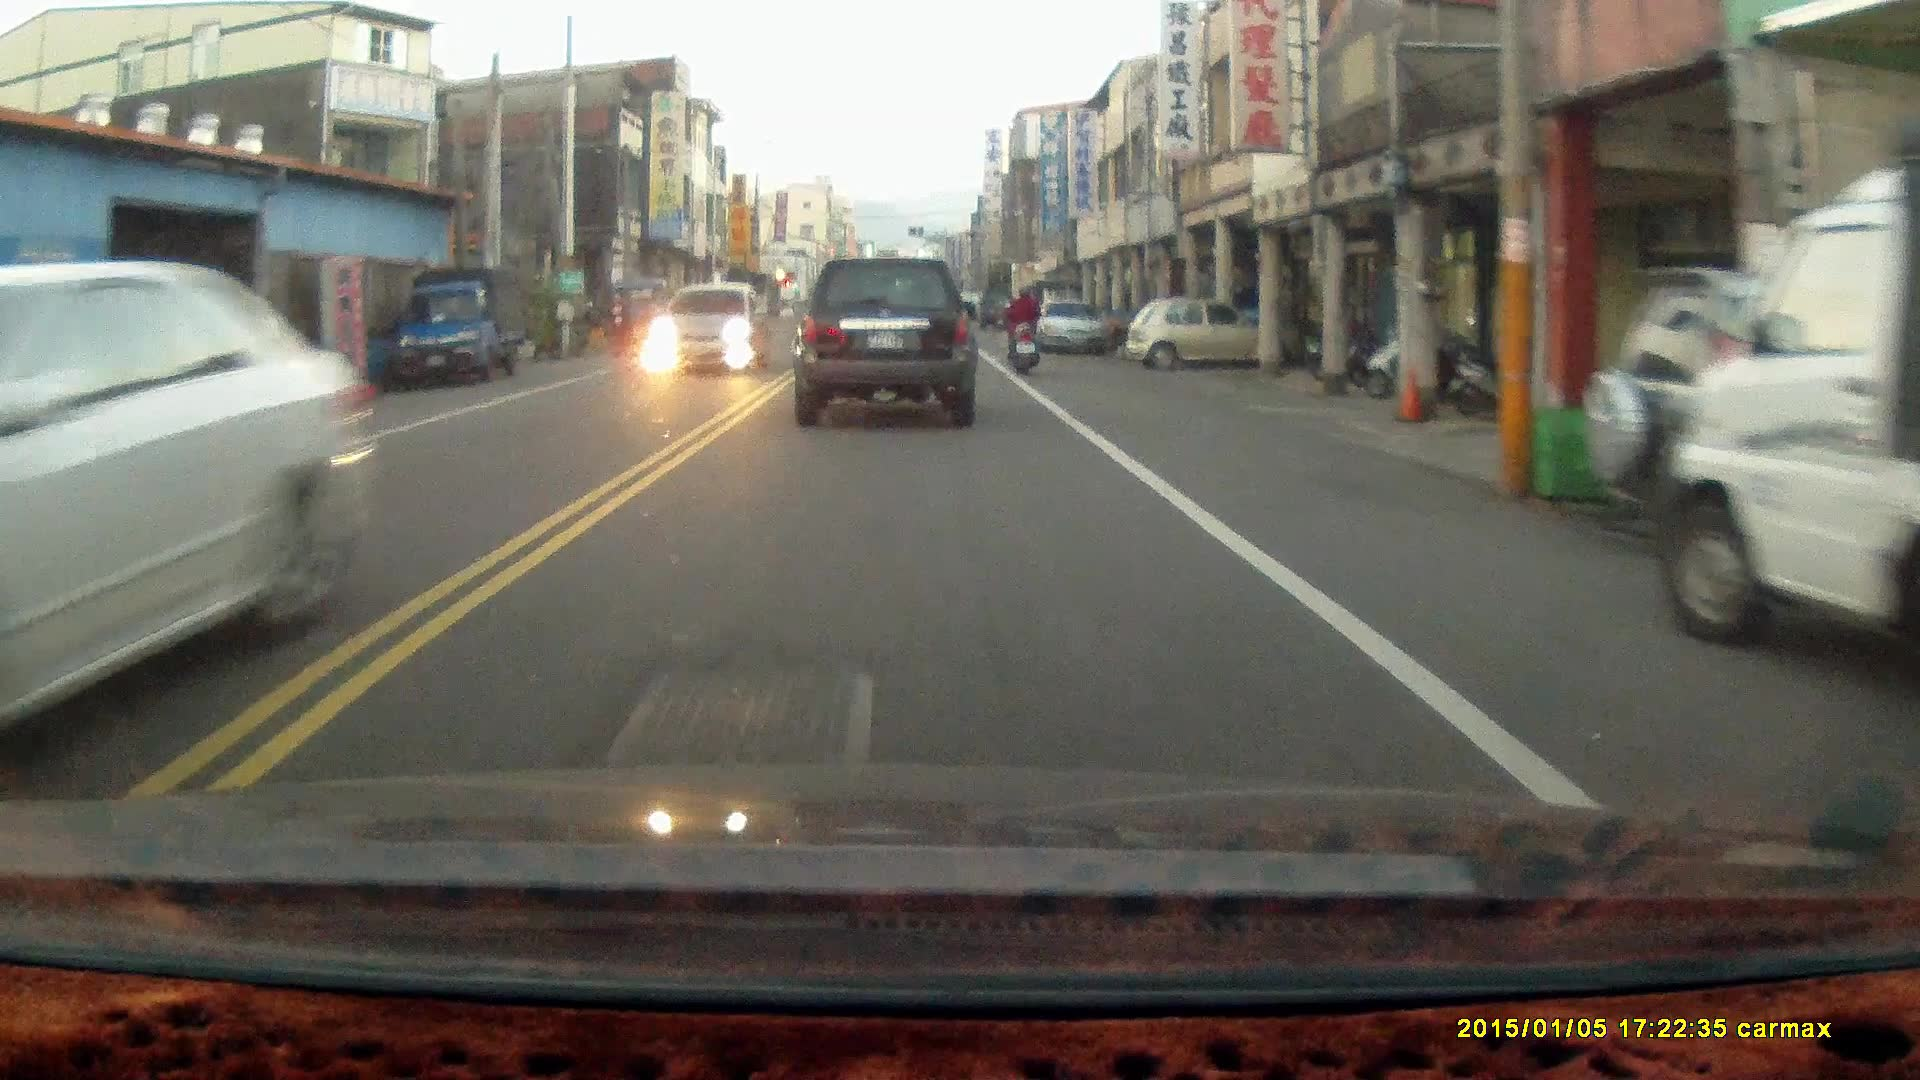pedestrian: (608, 288, 628, 352)
rider: (1005, 281, 1042, 376)
vehicle: (1, 261, 360, 733), (1650, 156, 1920, 708), (1579, 268, 1919, 562), (787, 257, 980, 430), (394, 268, 539, 390), (651, 281, 775, 374), (1127, 299, 1281, 373), (1035, 297, 1110, 359)
